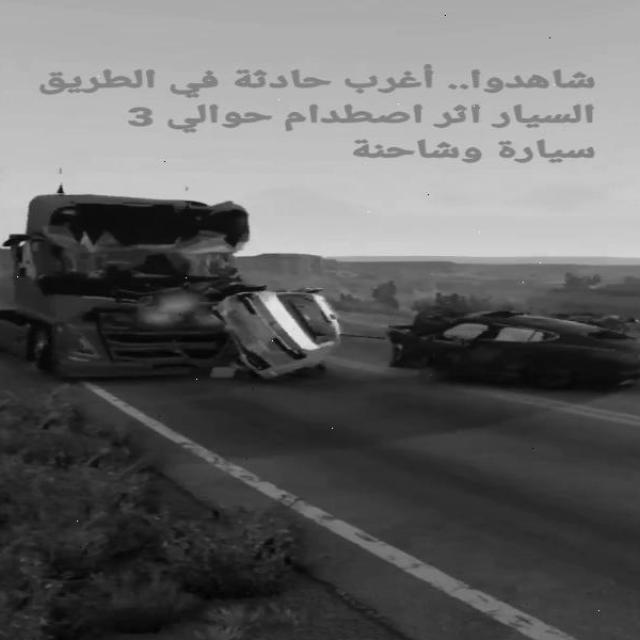accident: (0, 195, 362, 383), (381, 302, 640, 384)
